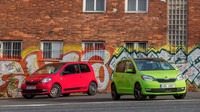car: (111, 57, 186, 101), (20, 61, 98, 97)
